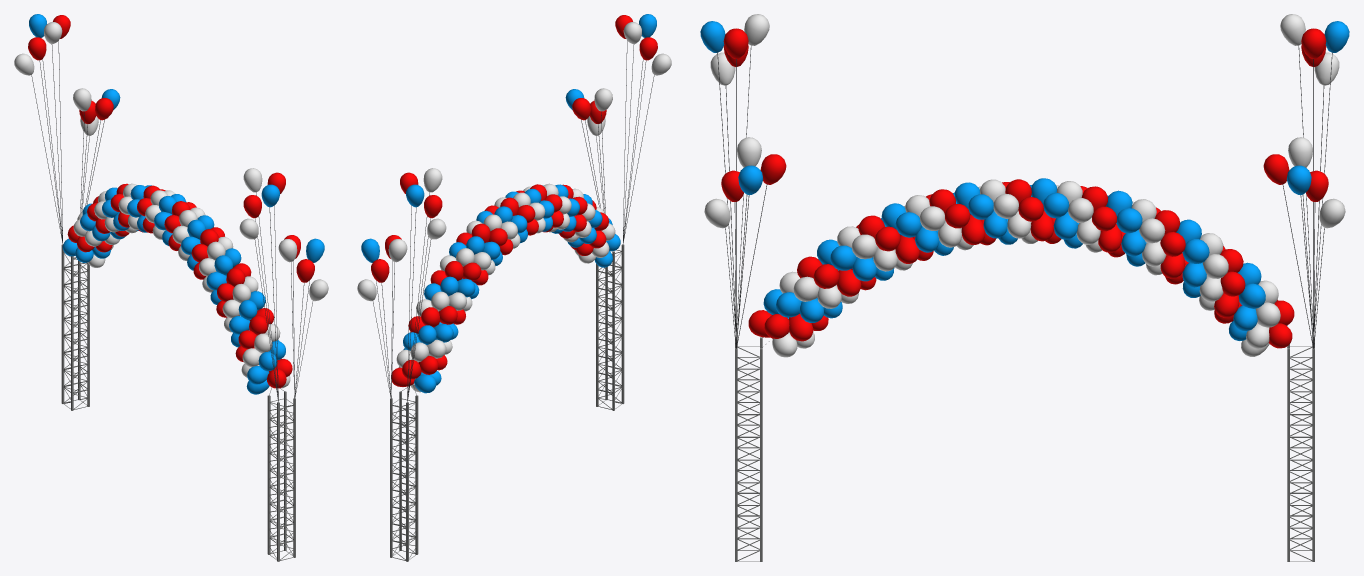
File: city balloons.fbx
3 views of the same model, side by side, from view 1: azimuth 30°, elevation 25°; view 2: azimuth 150°, elevation 25°; view 3: azimuth 270°, elevation 25° (orthographic). The views are drawn at different scales.
Size of the model in its own units: 8.39 by 33.61 by 37.74.
